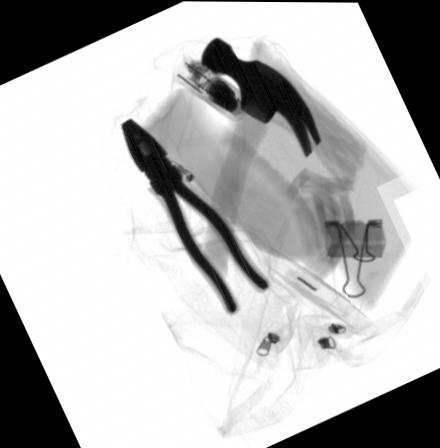Hammer: (197, 34, 322, 281)
Pliers: (120, 116, 271, 314)
